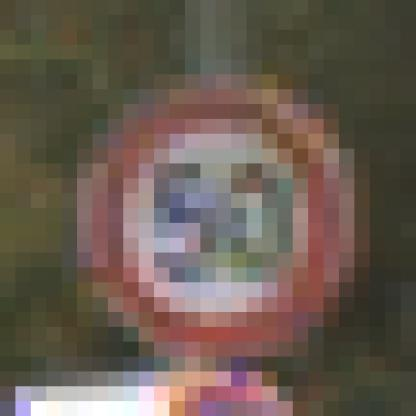Speed Limit 50: (96, 100, 338, 351)
